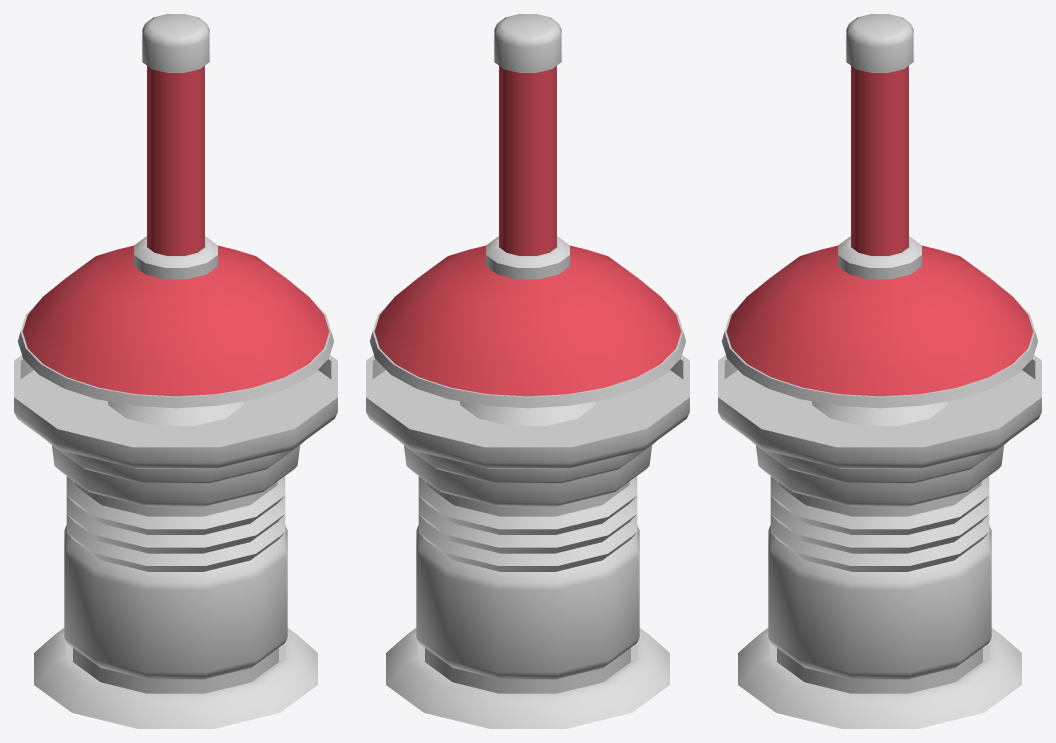
File: SL_QuantumEntangler.fbx
3 renders of one model, left to right at view 1: azimuth 30°, elevation 25°; view 2: azimuth 150°, elevation 25°; view 3: azimuth 270°, elevation 25°, orthographic.
Parts seen in each view (by area): view 1: SL_QuantumEntangler; view 2: SL_QuantumEntangler; view 3: SL_QuantumEntangler.
Part boxes in pixels (<box>): SL_QuantumEntangler: <box>14,14,337,728</box>; SL_QuantumEntangler: <box>366,14,689,728</box>; SL_QuantumEntangler: <box>718,14,1041,728</box>.
Bounding box in the file's own units: 123 × 270 × 123.
